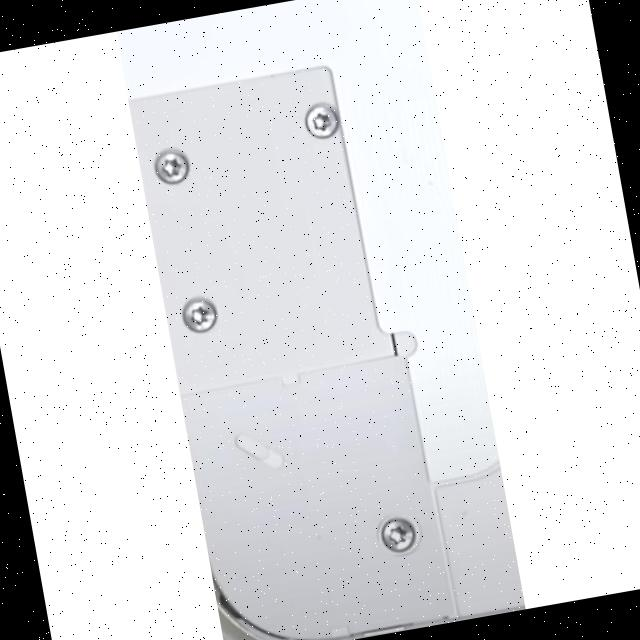Torx: (376, 513, 419, 556), (178, 294, 220, 334), (152, 146, 192, 186), (301, 100, 340, 141)
